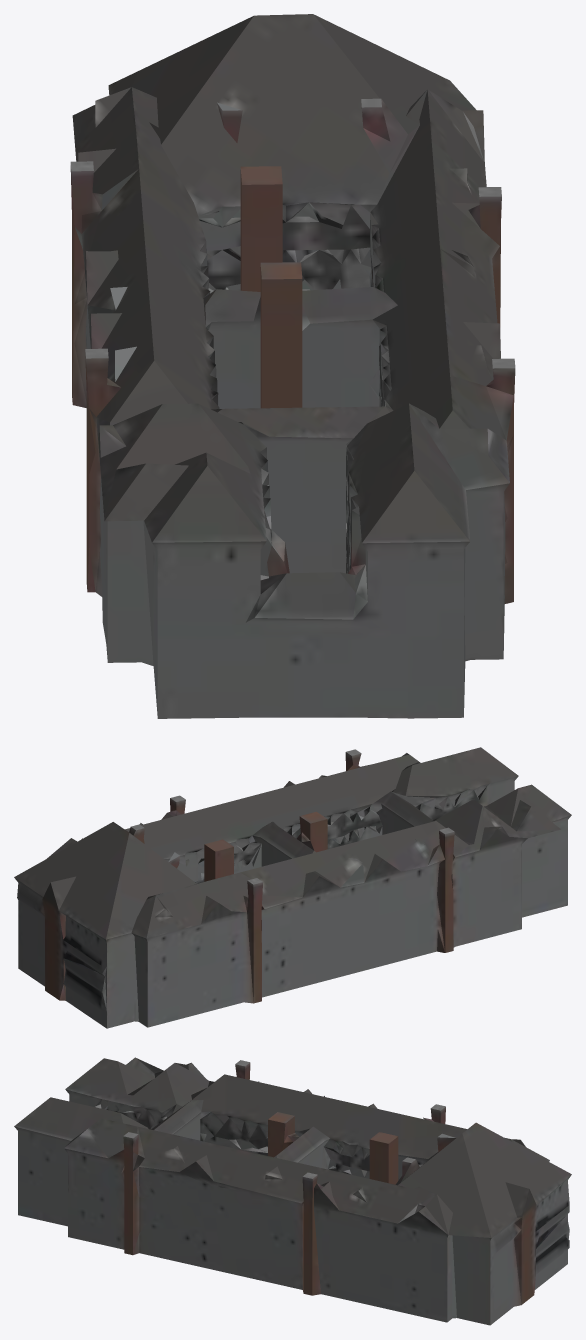
Rendered from t_0_-5.coat.glb.
3 views of the same model, one above another, from view 1: azimuth 30°, elevation 25°; view 2: azimuth 150°, elevation 25°; view 3: azimuth 270°, elevation 25° (orthographic). The views are drawn at different scales.
Parts seen in each view (by area): view 1: far; view 2: far; view 3: far.
Boxes of the visible parts, x1,y1,x2,y2 form: far: (70, 14, 515, 718); far: (14, 747, 571, 1028); far: (14, 1057, 571, 1325).
Bounding box in the file's own units: 66.64 × 27.5 × 90.61.
Materials: 1 (1 with a texture image).
